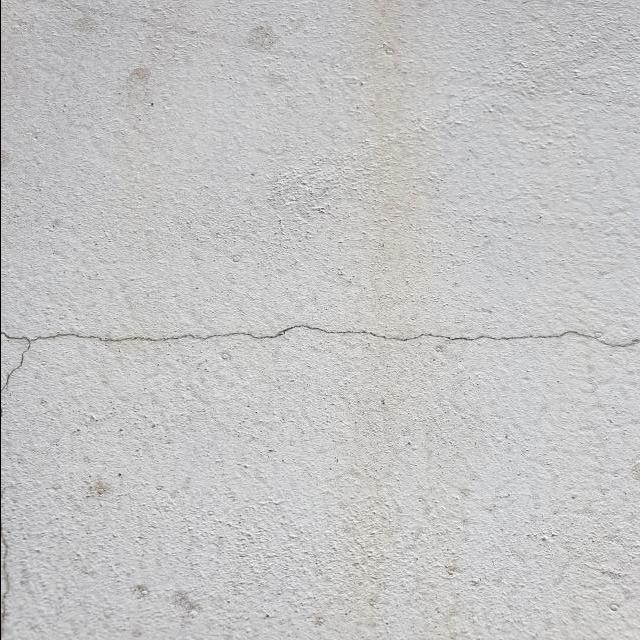SurfaceCrack: (2, 270, 639, 397)
